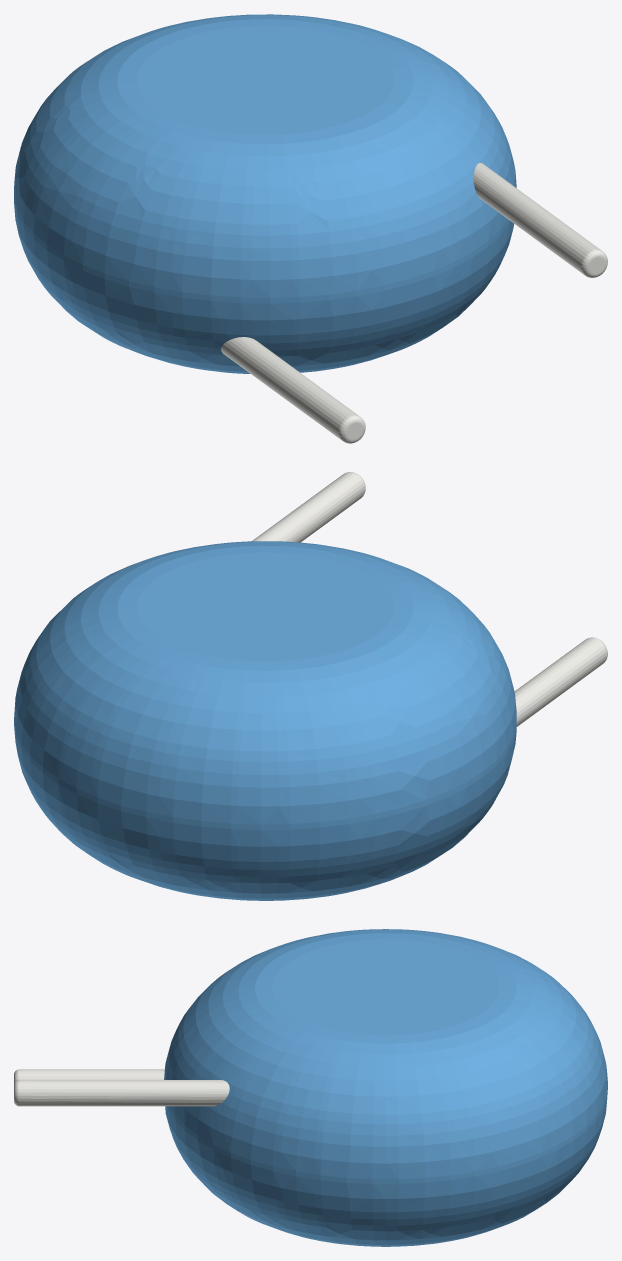
Rendered from RV_Disc_D9mm_W4.5mm_P5mm.glb.
The picture shows the model from 3 angles, top to bottom: view 1: azimuth 30°, elevation 25°; view 2: azimuth 150°, elevation 25°; view 3: azimuth 270°, elevation 25°; orthographic projection. The views are drawn at different scales.
Visible parts, largest first — view 1: Shape_IndexedFaceSet.001, Shape_IndexedFaceSet.002, Shape_IndexedFaceSet.003, Shape_IndexedFaceSet.006, Shape_IndexedFaceSet.004, Shape_IndexedFaceSet; view 2: Shape_IndexedFaceSet.001, Shape_IndexedFaceSet.002, Shape_IndexedFaceSet.003, Shape_IndexedFaceSet.006, Shape_IndexedFaceSet.004, Shape_IndexedFaceSet; view 3: Shape_IndexedFaceSet.001, Shape_IndexedFaceSet.002, Shape_IndexedFaceSet.003, Shape_IndexedFaceSet.004, Shape_IndexedFaceSet, Shape_IndexedFaceSet.006.
Part boxes in pixels (bbox=[...]): Shape_IndexedFaceSet.001: bbox=[14, 14, 516, 297]; Shape_IndexedFaceSet.002: bbox=[14, 203, 513, 373]; Shape_IndexedFaceSet.003: bbox=[136, 26, 394, 134]; Shape_IndexedFaceSet.006: bbox=[221, 337, 358, 439]; Shape_IndexedFaceSet.004: bbox=[473, 163, 601, 274]; Shape_IndexedFaceSet: bbox=[14, 198, 510, 303]; Shape_IndexedFaceSet.001: bbox=[14, 541, 516, 824]; Shape_IndexedFaceSet.002: bbox=[14, 726, 516, 900]; Shape_IndexedFaceSet.003: bbox=[136, 552, 394, 661]; Shape_IndexedFaceSet.006: bbox=[514, 638, 606, 726]; Shape_IndexedFaceSet.004: bbox=[252, 472, 364, 542]; Shape_IndexedFaceSet: bbox=[14, 720, 516, 829]; Shape_IndexedFaceSet.001: bbox=[164, 929, 607, 1179]; Shape_IndexedFaceSet.002: bbox=[165, 1099, 607, 1246]; Shape_IndexedFaceSet.003: bbox=[272, 939, 499, 1035]; Shape_IndexedFaceSet.004: bbox=[19, 1080, 229, 1106]; Shape_IndexedFaceSet: bbox=[167, 1085, 607, 1184]; Shape_IndexedFaceSet.006: bbox=[19, 1069, 164, 1079].
Size of the model in its own units: 3.54 by 1.77 by 4.73.
